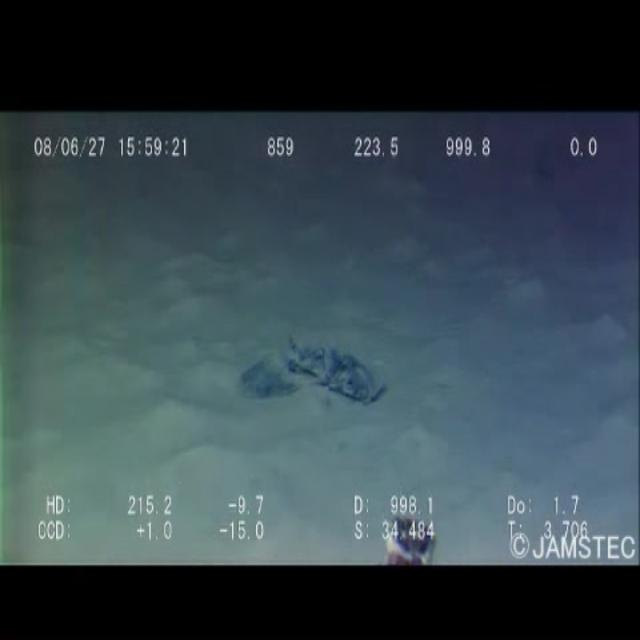Accessories: (231, 340, 391, 444)
